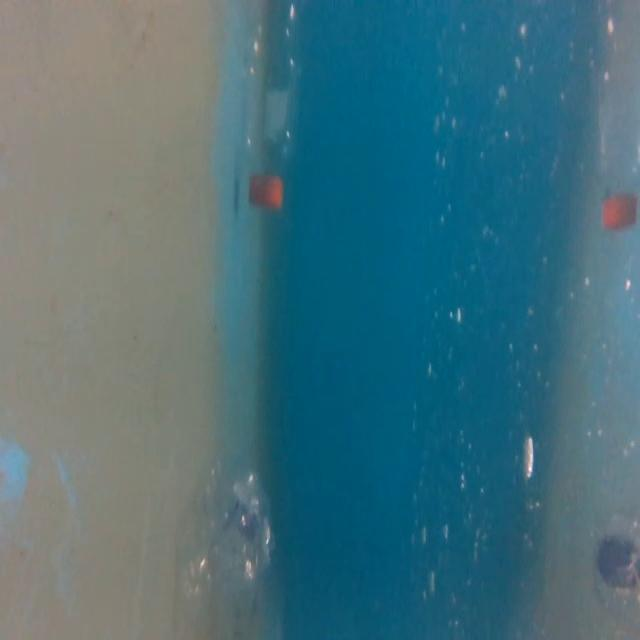plastic bags: (178, 466, 278, 618)
plastic bottle: (238, 0, 316, 216)
